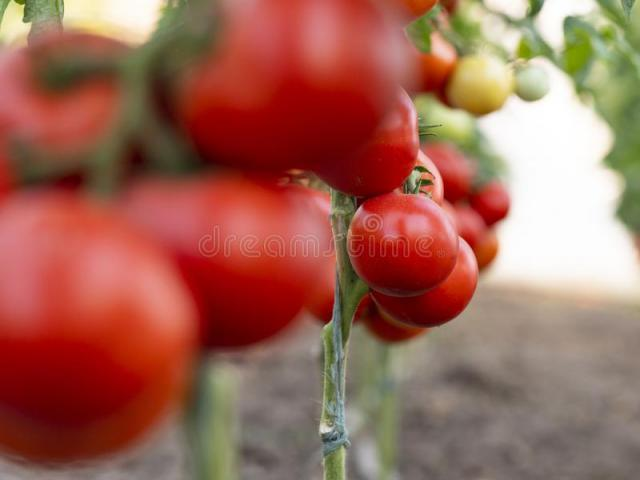tomato: (338, 183, 459, 304), (338, 86, 436, 208)
